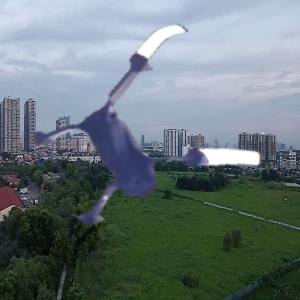drone: (15, 17, 273, 275)
